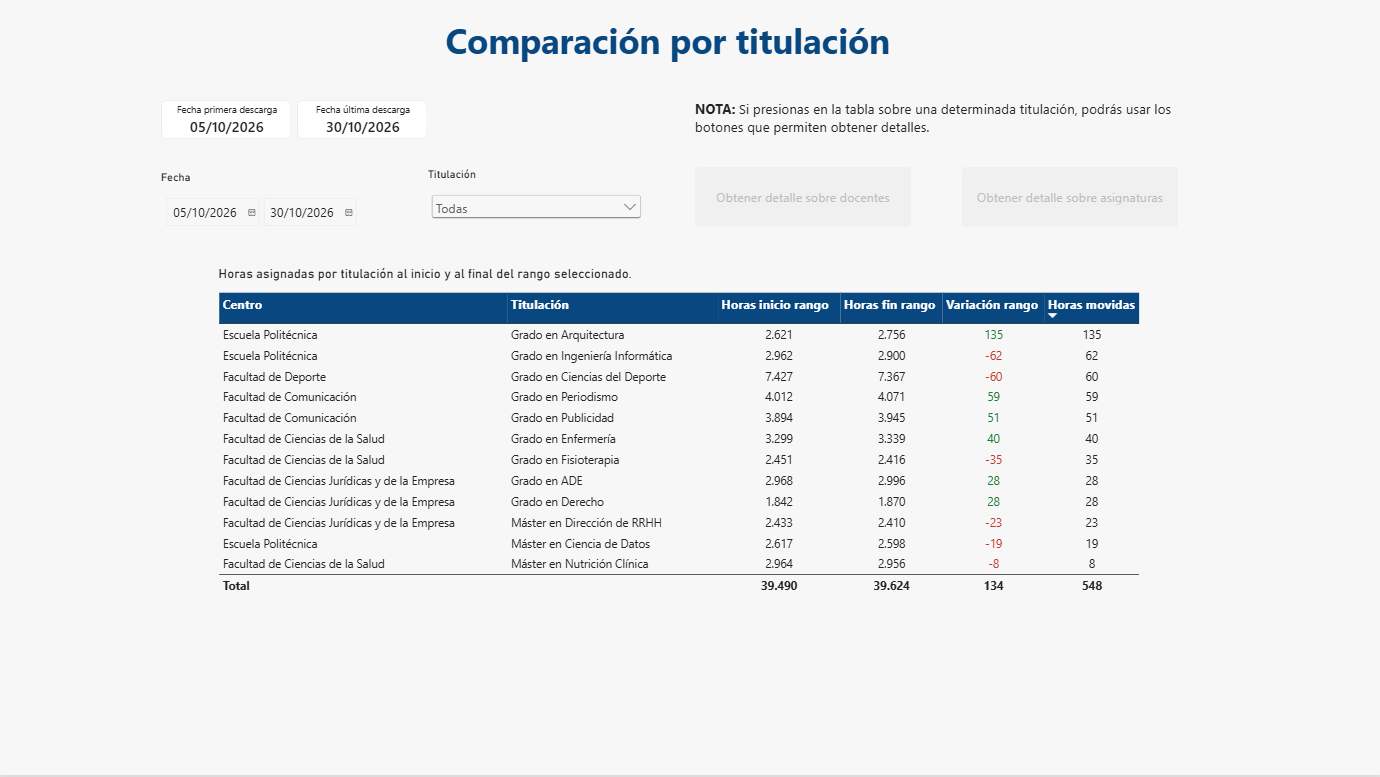

What the dashboard file says about the page in this screenshot:
{"tool":"powerbi","page":{"name":"Comparación por titulación","canvas":[1920,1080],"ordinal":1},"visuals":[{"type":"slicer","title":"Fecha","fields":{"Values":["Calendario.Fecha"]},"box":[223.5,224.1,300.3,103.7],"z":0,"group":"g1"},{"type":"tableEx","title":"Horas asignadas por titulación al inicio y al final del rango seleccionado.","fields":{"Values":["Asignaturas.Centro","Asignaturas.Titulación","Medidas.Horas inicio rango","Medidas.Horas fin rango","Medidas.Variación rango","Medidas.Horas movidas"]},"box":[288.2,358.2,1312,501.2],"z":0},{"type":"textbox","box":[965.8,141.4,683.4,63],"z":1000,"group":"g2"},{"type":"group","id":"g1","title":"Grupo 1","box":[223.5,219.5,1411.3,114.5],"z":1000},{"type":"slicer","title":"Titulación","fields":{"Values":["Asignaturas.Titulación"]},"box":[594.2,219.5,300.5,112.9],"z":1000,"group":"g1"},{"type":"textbox","box":[375.8,26,1105.2,83.5],"z":2000},{"type":"actionButton","box":[965.1,234.2,300.3,83.5],"z":2000,"group":"g1"},{"type":"group","id":"g2","title":"Grupo 2","box":[223.5,141.4,1424.7,63.3],"z":3000},{"type":"actionButton","box":[1335.8,234.2,300.3,83.5],"z":3000,"group":"g1"},{"type":"cardVisual","fields":{"Data":["Medidas.Fecha primera descarga","Medidas.Fecha última descarga"]},"box":[223.5,141.4,371.1,54.8],"z":3001,"group":"g2"}]}

Visuals, with their boxes in screenshot pixels (x1, y1, x2, y2), scaled from the page's 1920x1080 canvas onto the 1380x777 screenshot:
"Fecha" slicer: x1=161 y1=161 x2=376 y2=236
"Horas asignadas por titulación al inicio y al final del rango seleccionado." tableEx: x1=207 y1=258 x2=1150 y2=618
textbox: x1=694 y1=102 x2=1185 y2=147
"Grupo 1" group: x1=161 y1=158 x2=1175 y2=240
"Titulación" slicer: x1=427 y1=158 x2=643 y2=239
textbox: x1=270 y1=19 x2=1064 y2=79
actionButton: x1=694 y1=168 x2=910 y2=229
"Grupo 2" group: x1=161 y1=102 x2=1185 y2=147
actionButton: x1=960 y1=168 x2=1176 y2=229
cardVisual - Medidas.Fecha primera descarga x Medidas.Fecha última descarga: x1=161 y1=102 x2=427 y2=141
